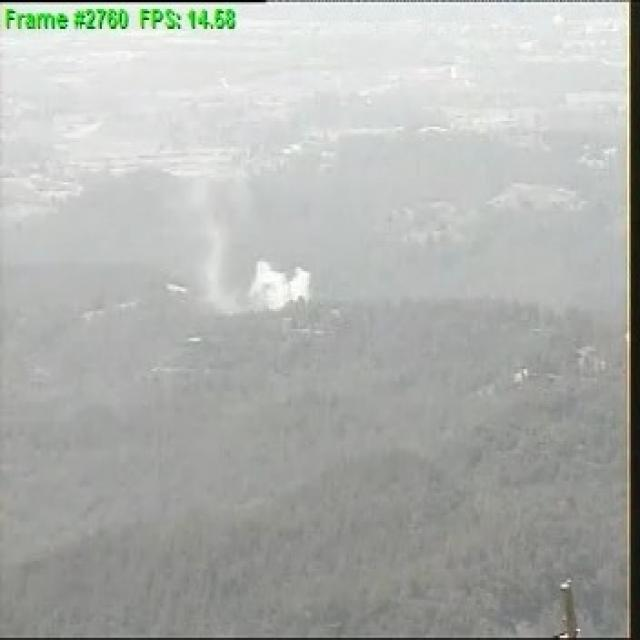smoke: (210, 258, 313, 304)
